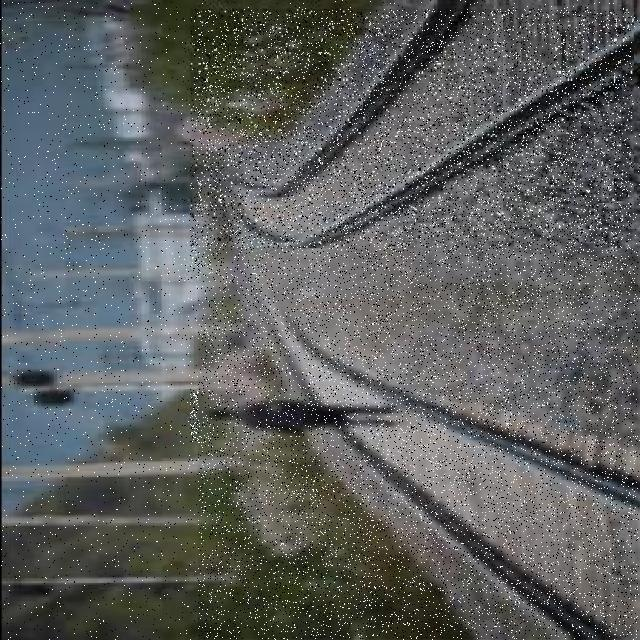rail: (199, 250, 639, 640), (191, 11, 633, 278)
